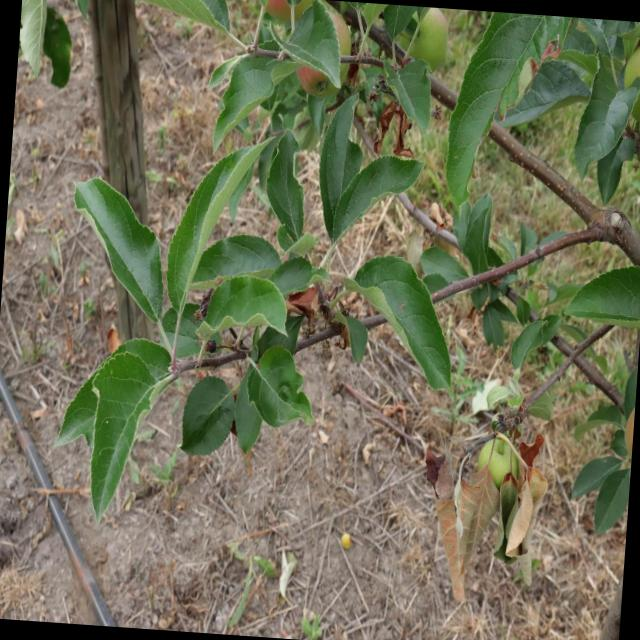-FireBlight-: (414, 452, 502, 586), (498, 443, 543, 562), (368, 104, 418, 166), (278, 288, 322, 320)
